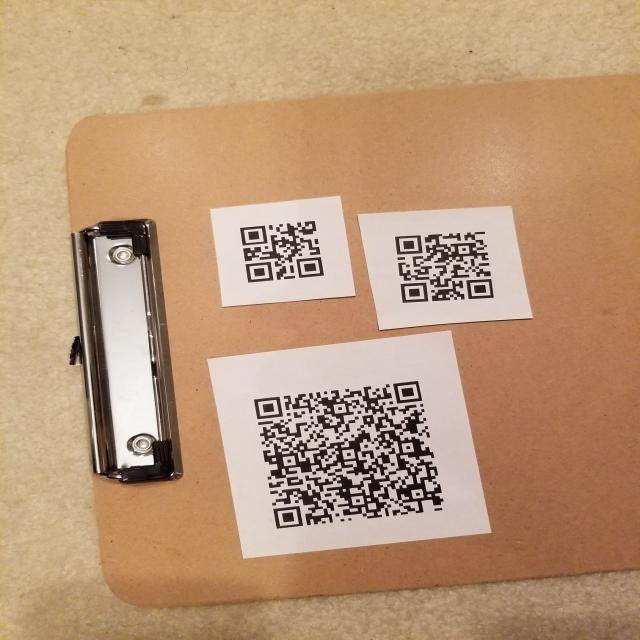qr-code: (240, 366, 460, 536), (374, 218, 522, 312), (226, 211, 332, 288)
